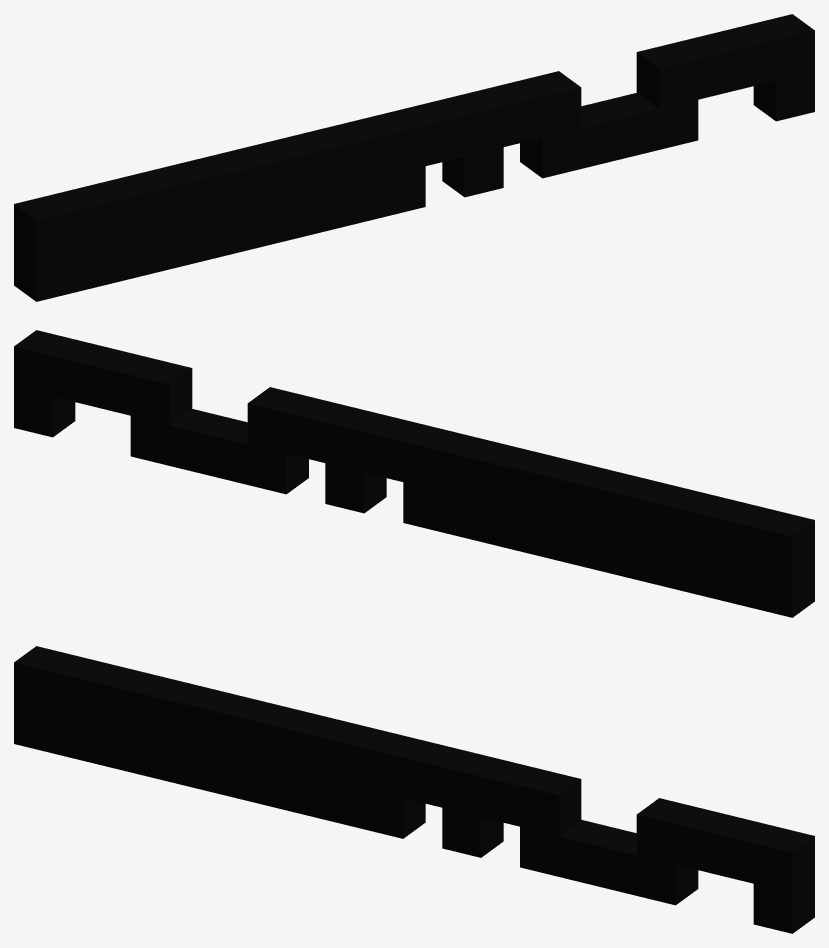
The model's file is Gauge_ZombieSkin_Thin_Half.002.fbx.
3 views of the same model, one above another, from view 1: azimuth 30°, elevation 25°; view 2: azimuth 150°, elevation 25°; view 3: azimuth 330°, elevation 25° (orthographic).
Visible parts, largest first — view 1: Gauge_ZombieSkin_Thin_Half.002; view 2: Gauge_ZombieSkin_Thin_Half.002; view 3: Gauge_ZombieSkin_Thin_Half.002.
Part boxes in pixels (x1=…): Gauge_ZombieSkin_Thin_Half.002: x1=14, y1=14, x2=814, y2=301; Gauge_ZombieSkin_Thin_Half.002: x1=14, y1=330, x2=814, y2=617; Gauge_ZombieSkin_Thin_Half.002: x1=14, y1=646, x2=814, y2=933.
Size of the model in its own units: 2 by 0.2 by 0.1.
